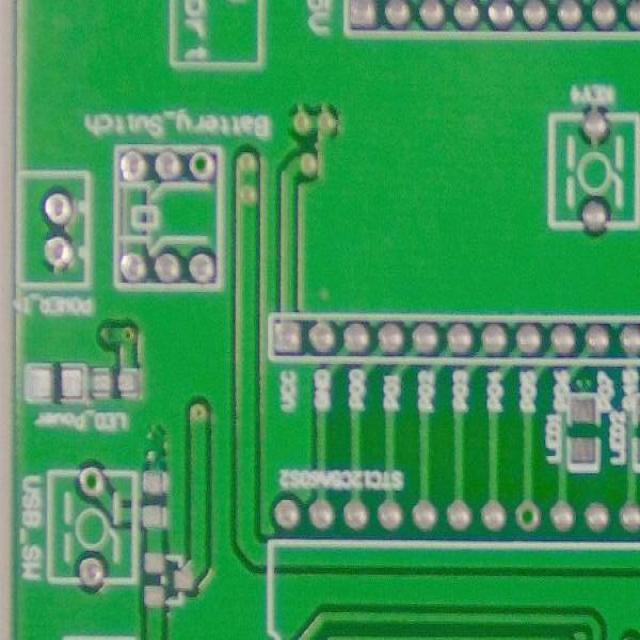missing hole: (185, 146, 222, 182), (514, 496, 543, 536), (76, 464, 106, 499)
